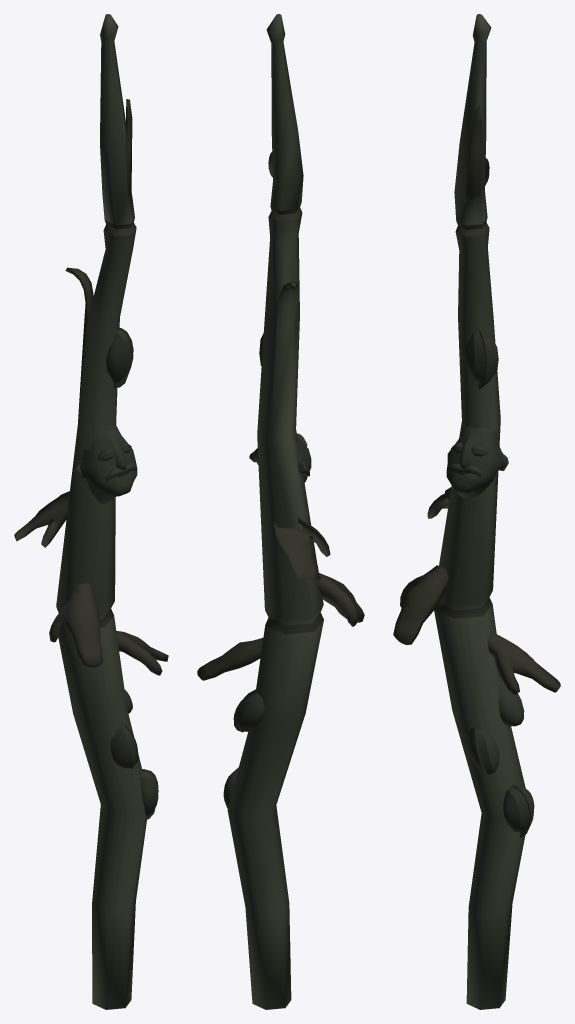
Rendered from Phase 4 Bamboo 2.fbx.
3 renders of one model, left to right at view 1: azimuth 30°, elevation 25°; view 2: azimuth 150°, elevation 25°; view 3: azimuth 330°, elevation 25°, orthographic.
Visible parts, largest first — view 1: Bamboo Phase 4 2; view 2: Bamboo Phase 4 2; view 3: Bamboo Phase 4 2.
Boxes of the visible parts, <box> form: Bamboo Phase 4 2: <box>14,14,168,1009</box>; Bamboo Phase 4 2: <box>197,14,364,1009</box>; Bamboo Phase 4 2: <box>393,14,560,1009</box>.
Size of the model in its own units: 101 by 692 by 84.72.
